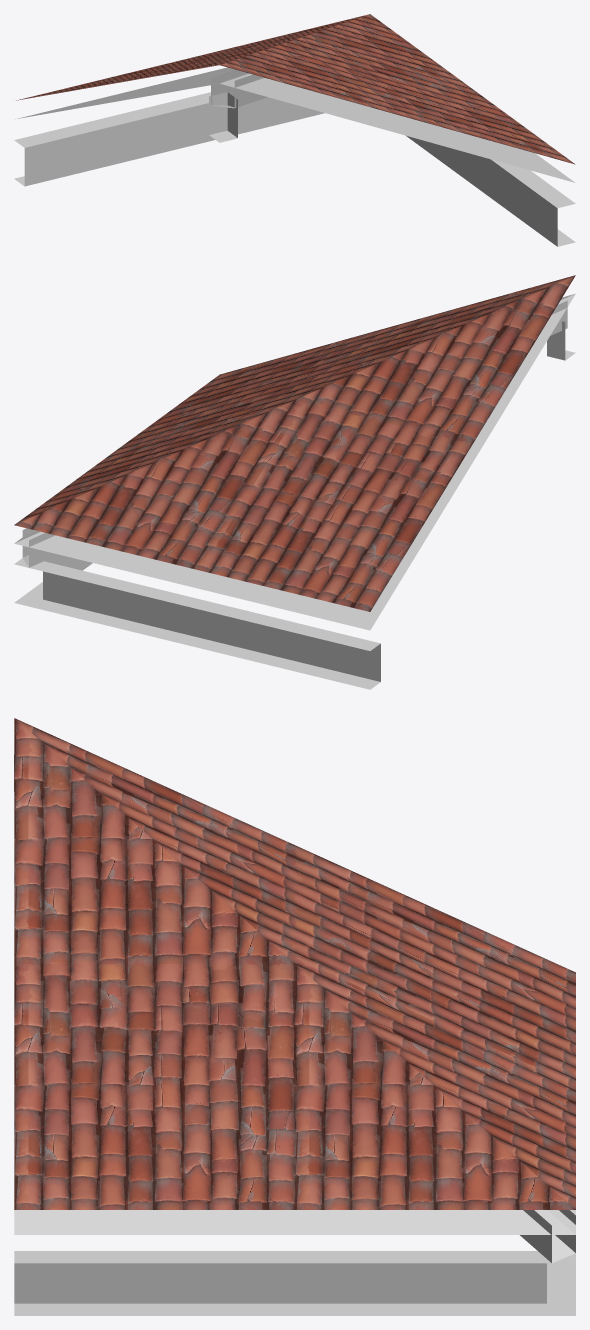
File: WallKit_Hip_LOD2.fbx
3 renders of one model, top to bottom at view 1: azimuth 30°, elevation 25°; view 2: azimuth 150°, elevation 25°; view 3: azimuth 270°, elevation 25°, orthographic. The views are drawn at different scales.
Parts seen in each view (by area): view 1: WallKit_Hip_LOD2; view 2: WallKit_Hip_LOD2; view 3: WallKit_Hip_LOD2.
Part boxes in pixels (bbox=[...]): WallKit_Hip_LOD2: bbox=[14, 14, 575, 246]; WallKit_Hip_LOD2: bbox=[14, 275, 575, 689]; WallKit_Hip_LOD2: bbox=[14, 718, 575, 1315].
Size of the model in its own units: 401 by 283 by 400.
